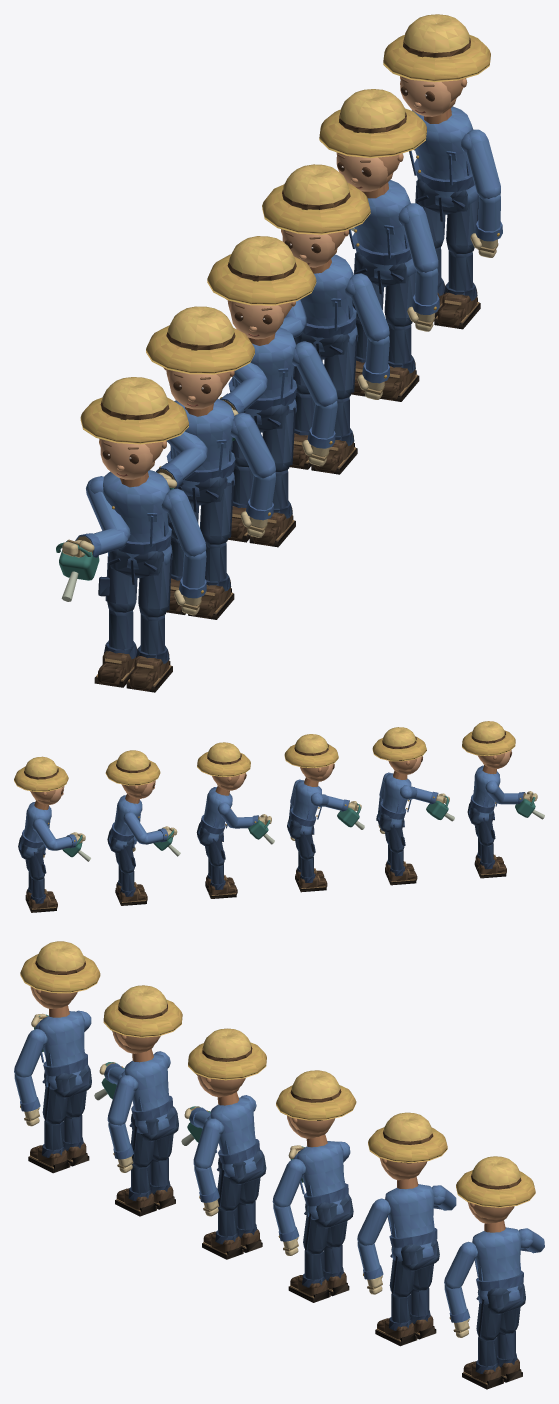
The model's file is ba-water-side-after.glb.
The picture shows the model from 3 angles, top to bottom: view 1: azimuth 30°, elevation 25°; view 2: azimuth 150°, elevation 25°; view 3: azimuth 270°, elevation 25°; orthographic projection. The views are drawn at different scales.
Parts seen in each view (by area): view 1: strawHat (×6), denimJacketTorso (×6), leftShin (×6), head (×6), leftUpperArm (×6), leftThigh (×6), leftLowerArm (×6), rightShin (×4), trouserHips (×4), rightLowerArm (×3), rightThigh, rightUpperArm (+1 smaller); view 2: strawHat (×6), denimJacketTorso (×6), rightShin (×6), rightThigh (×6), head (×6), rightUpperArm (×4), rightLowerArm (×4), wateringCanBody (×4), trouserHips (×4); view 3: strawHat (×6), denimJacketTorso (×6), leftShin (×6), rightShin (×6), leftUpperArm (×6), trouserHips (×6), leftThigh (×6), leftLowerArm (×6), head (×6).
Part boxes in pixels (x1,y1,x2,y2): strawHat (×6): (80, 14, 490, 444); denimJacketTorso (×6): (103, 106, 478, 569); leftShin (×6): (126, 250, 480, 692); head (×6): (99, 76, 467, 479); leftUpperArm (×6): (161, 129, 500, 556); leftThigh (×6): (138, 195, 478, 617); leftLowerArm (×6): (179, 194, 502, 598); rightShin (×4): (94, 393, 314, 687); trouserHips (×4): (108, 179, 468, 584); rightLowerArm (×3): (75, 377, 266, 557); rightThigh: (98, 553, 137, 612); rightUpperArm: (86, 476, 130, 540); strawHat (×6): (14, 721, 515, 791); denimJacketTorso (×6): (19, 765, 500, 856); rightShin (×6): (28, 843, 506, 912); rightThigh (×6): (27, 817, 495, 880); head (×6): (30, 750, 512, 804); rightUpperArm (×4): (32, 780, 504, 850); rightLowerArm (×4): (52, 788, 438, 850); wateringCanBody (×4): (248, 798, 535, 839); trouserHips (×4): (196, 802, 494, 846); strawHat (×6): (20, 941, 535, 1207); denimJacketTorso (×6): (38, 1005, 523, 1304); leftShin (×6): (28, 1120, 503, 1389); rightShin (×6): (63, 1114, 522, 1382); leftUpperArm (×6): (14, 1029, 477, 1288); trouserHips (×6): (42, 1064, 525, 1314); leftThigh (×6): (42, 1082, 501, 1340); leftLowerArm (×6): (14, 1074, 470, 1322); head (×6): (30, 986, 514, 1223).
Size of what is drawn, in the model's own units: 6.3 by 2.4 by 5.34.
